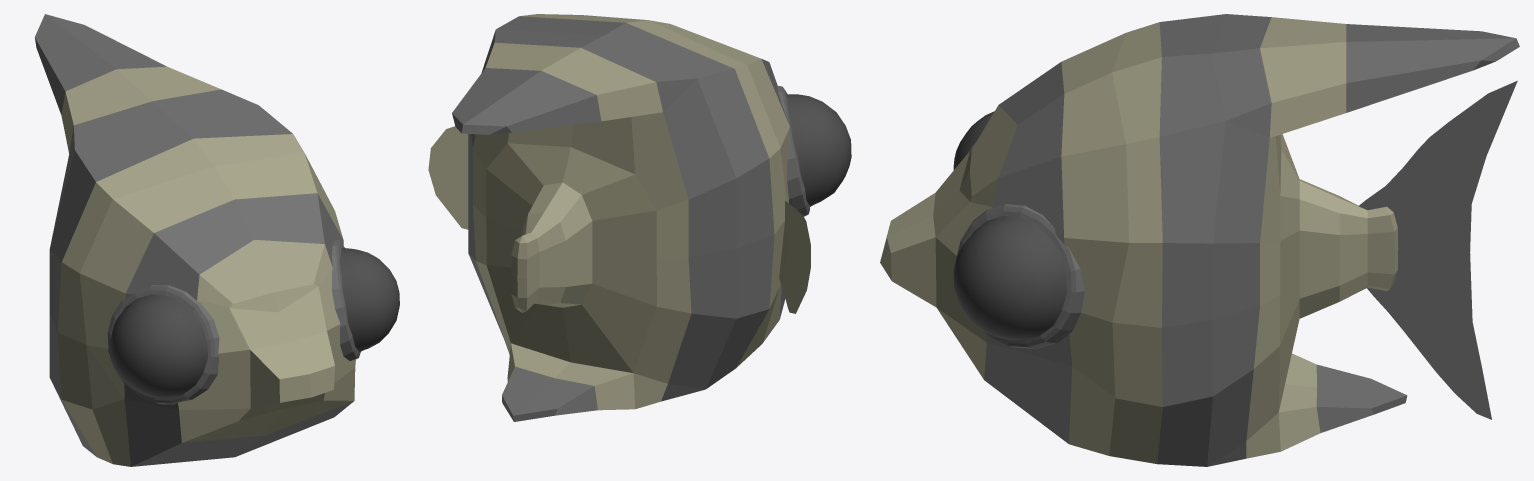
Rendered from moorishidol.glb.
3 views of the same model, side by side, from view 1: azimuth 30°, elevation 25°; view 2: azimuth 150°, elevation 25°; view 3: azimuth 270°, elevation 25° (orthographic). The views are drawn at different scales.
Parts seen in each view (by area): view 1: cutefish__MoorishIdol.glb; view 2: cutefish__MoorishIdol.glb; view 3: cutefish__MoorishIdol.glb.
Boxes of the visible parts, x1,y1,x2,y2 form: cutefish__MoorishIdol.glb: (34, 14, 399, 466); cutefish__MoorishIdol.glb: (428, 14, 851, 421); cutefish__MoorishIdol.glb: (880, 14, 1519, 466).
Size of the model in its own units: 3.3 by 2.92 by 4.34.
